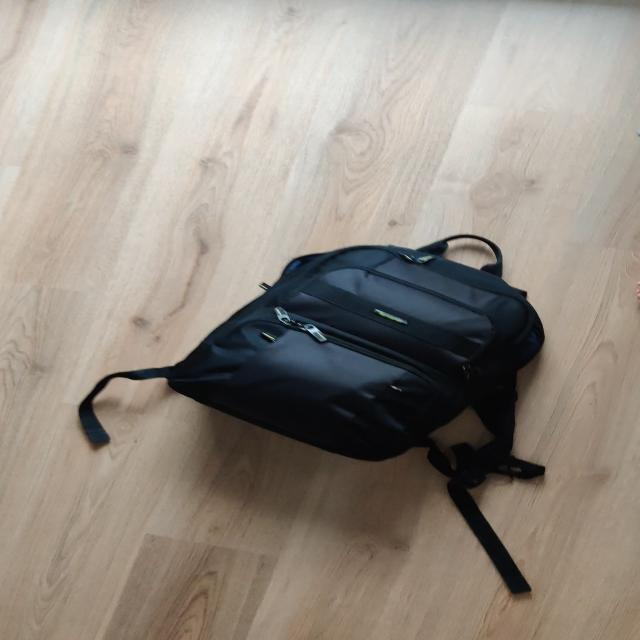backpack: (155, 231, 563, 478)
